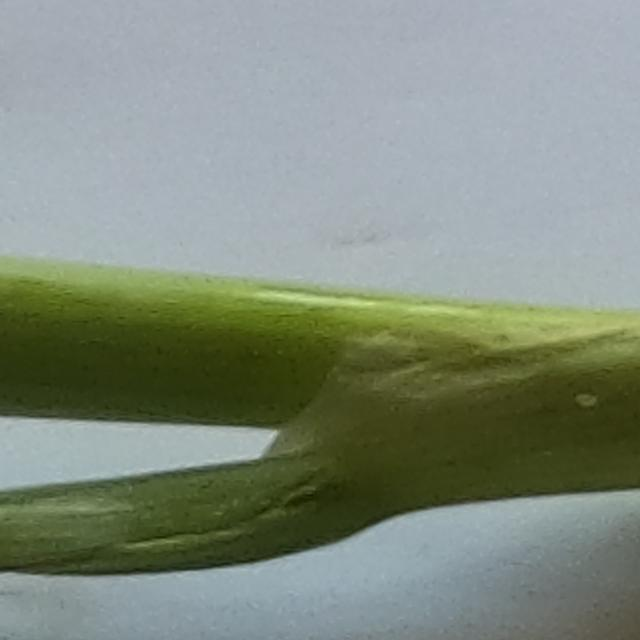green_onion: (0, 261, 640, 589)
